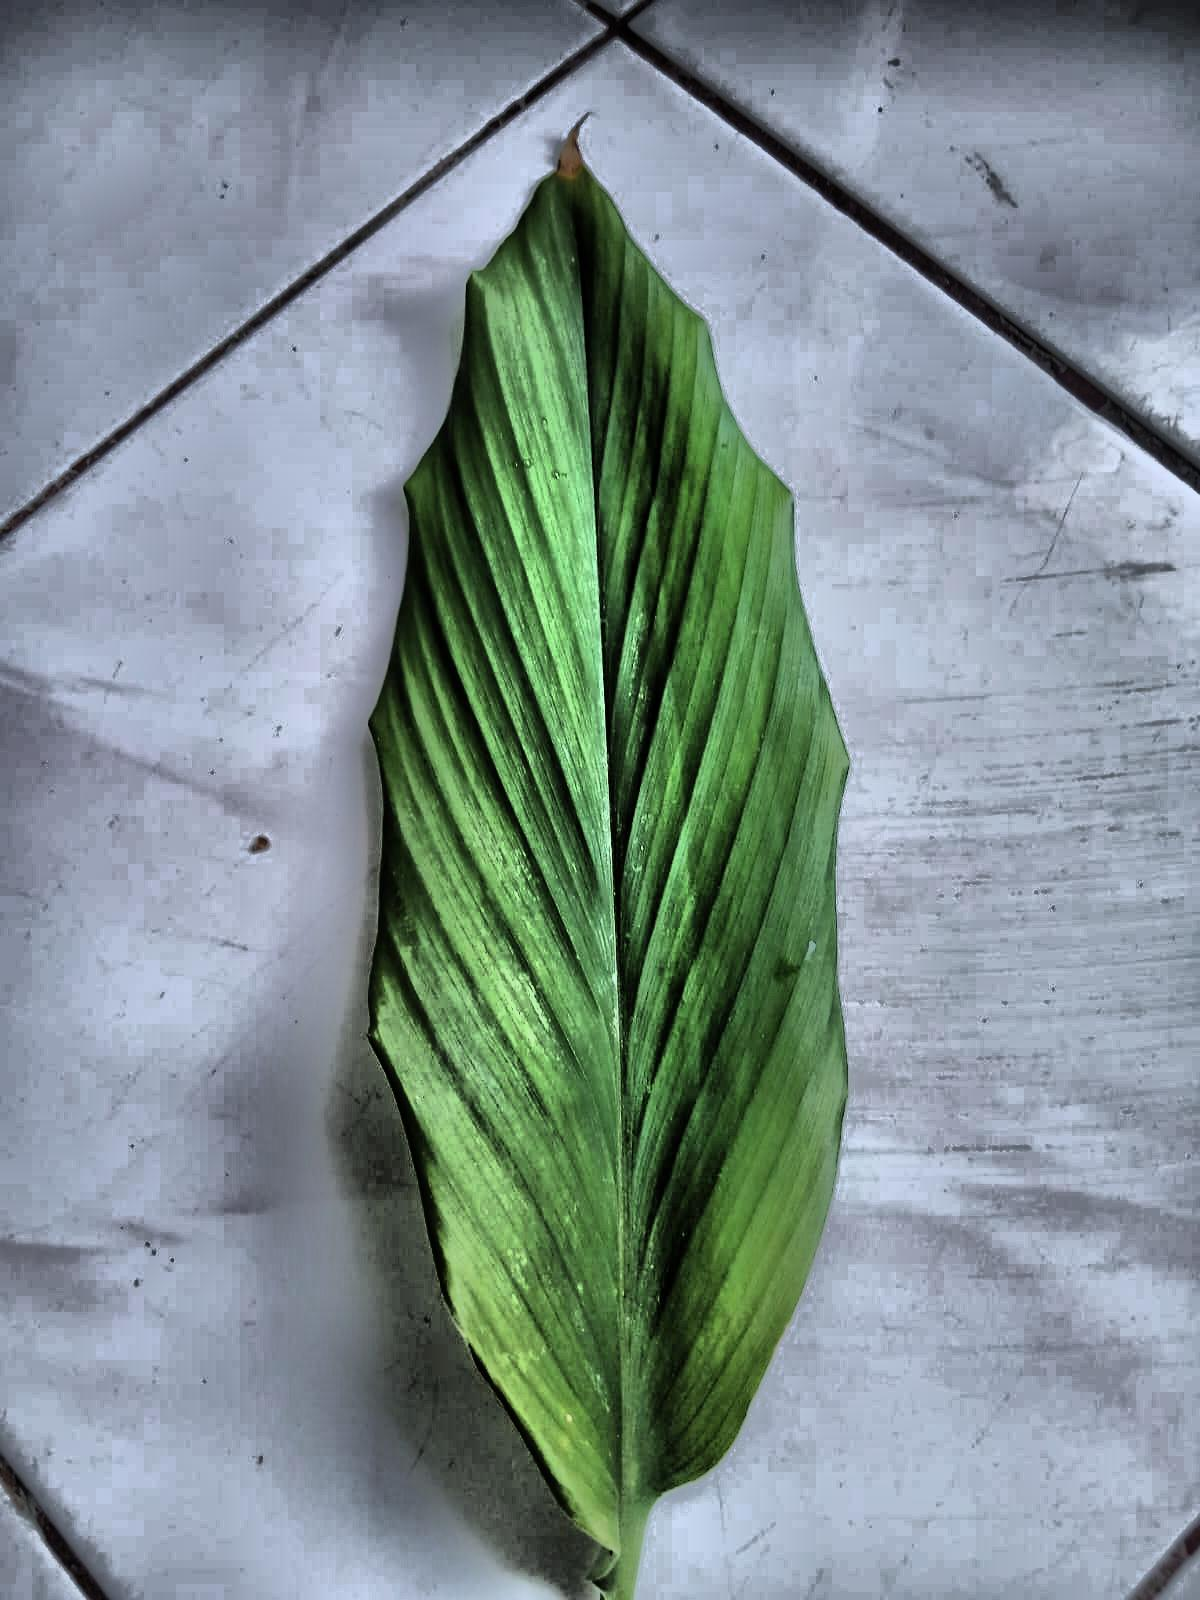daun kunyit: (369, 147, 848, 1599)
